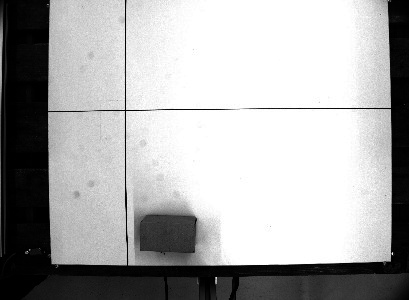b2: (138, 212, 199, 255)
